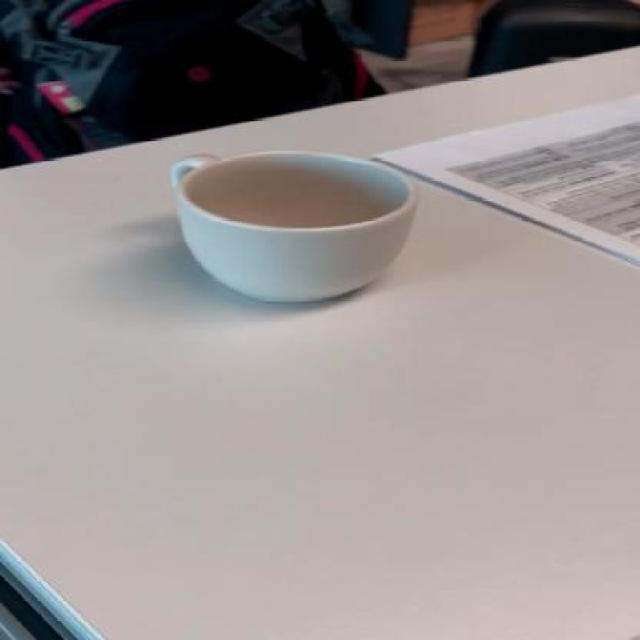cup: (180, 151, 415, 303)
